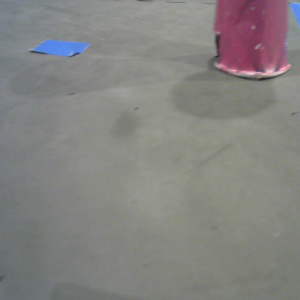right: (211, 1, 292, 81)
